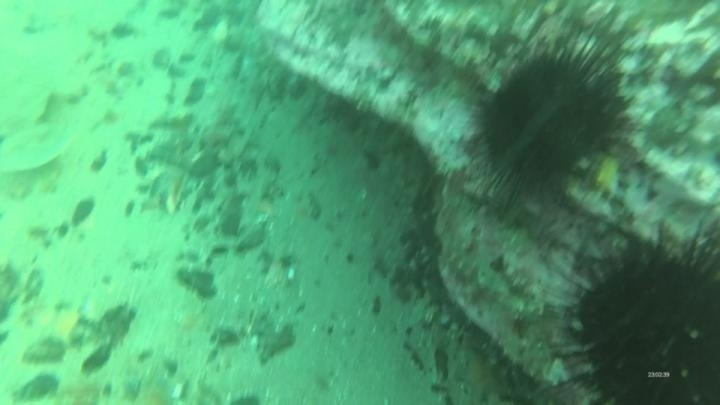echinus: (465, 34, 633, 209), (563, 221, 720, 405)
starfish: (452, 346, 514, 405)
